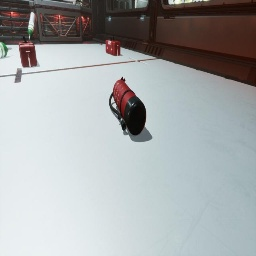0: (27, 12, 36, 41), (0, 42, 12, 58)
FireExtinguisher ]: (109, 77, 146, 135)
FirstAidBox ,: (19, 35, 37, 68), (106, 36, 120, 56)
NitrogenTank ,: (50, 0, 60, 2)
